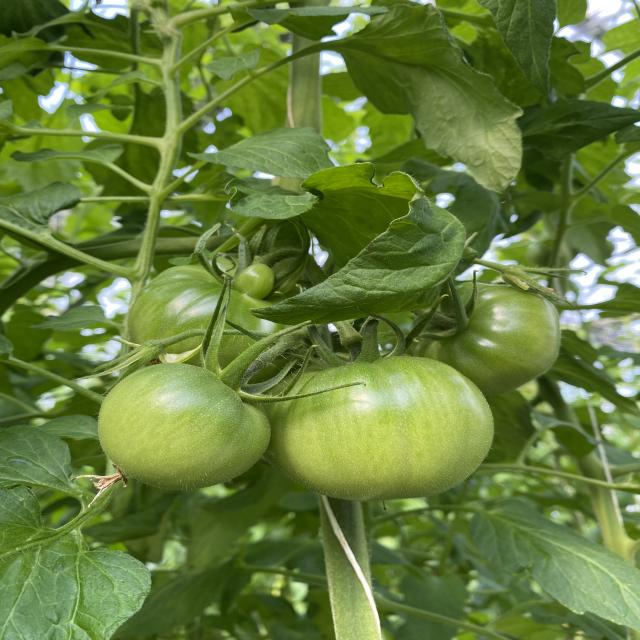n-unriped: (236, 352, 494, 500), (127, 258, 331, 387), (96, 362, 270, 491), (408, 280, 562, 397)
